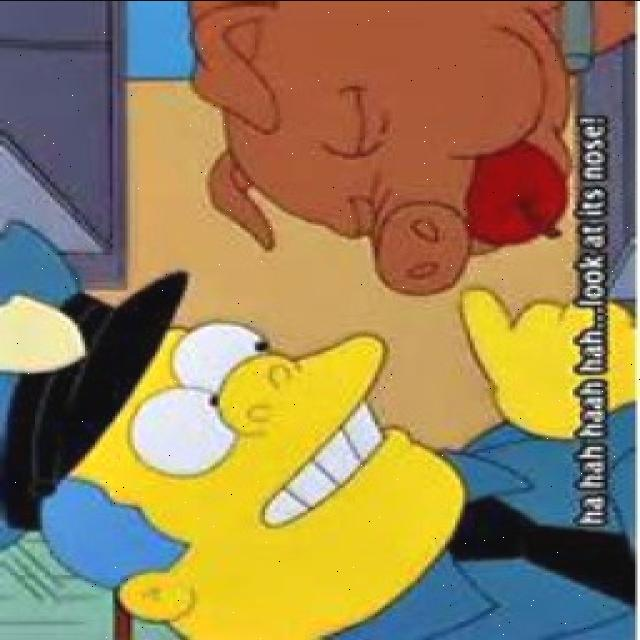Chief Wiggam: (0, 218, 478, 639)
